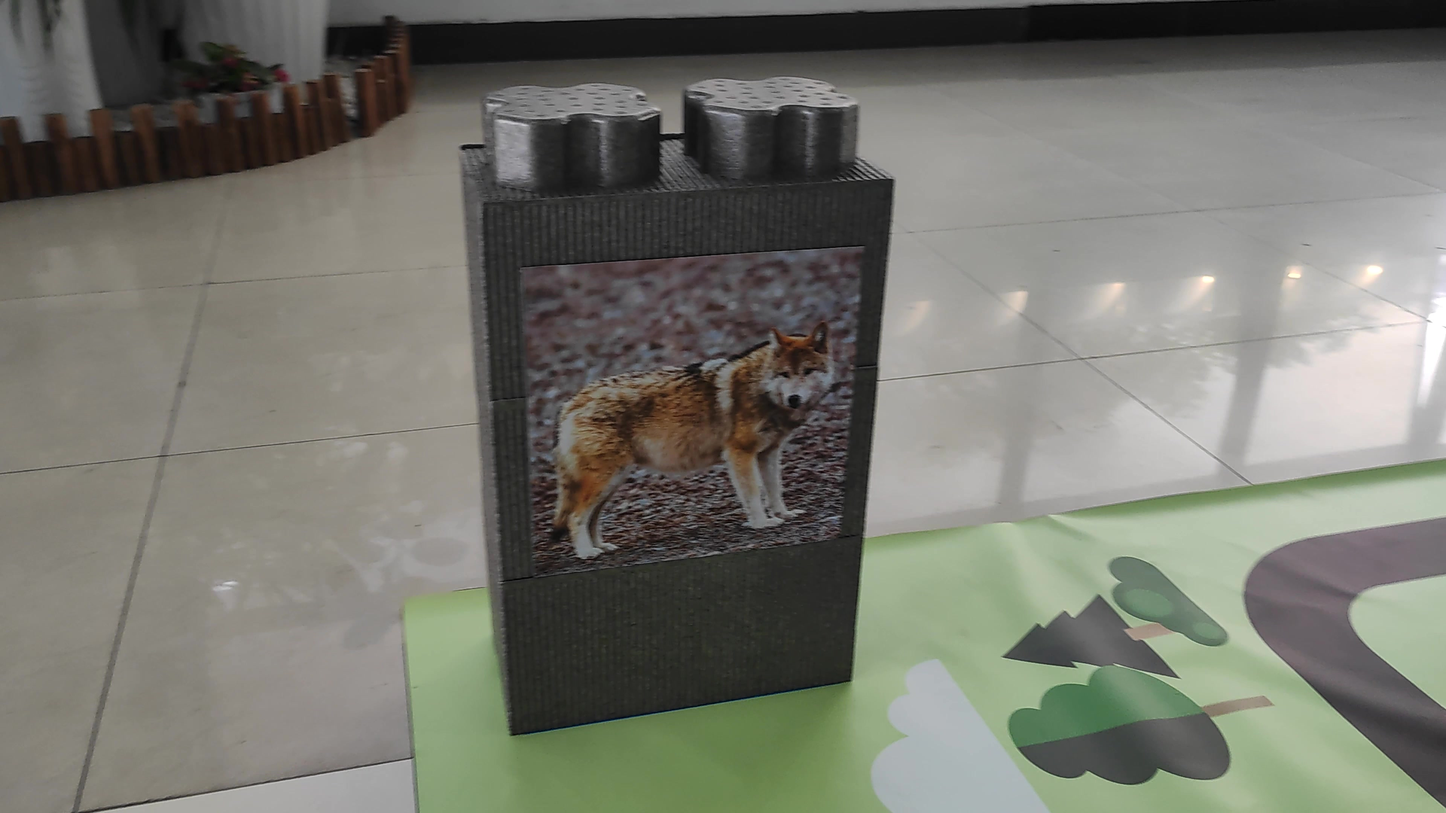wolf: (529, 248, 853, 538)
